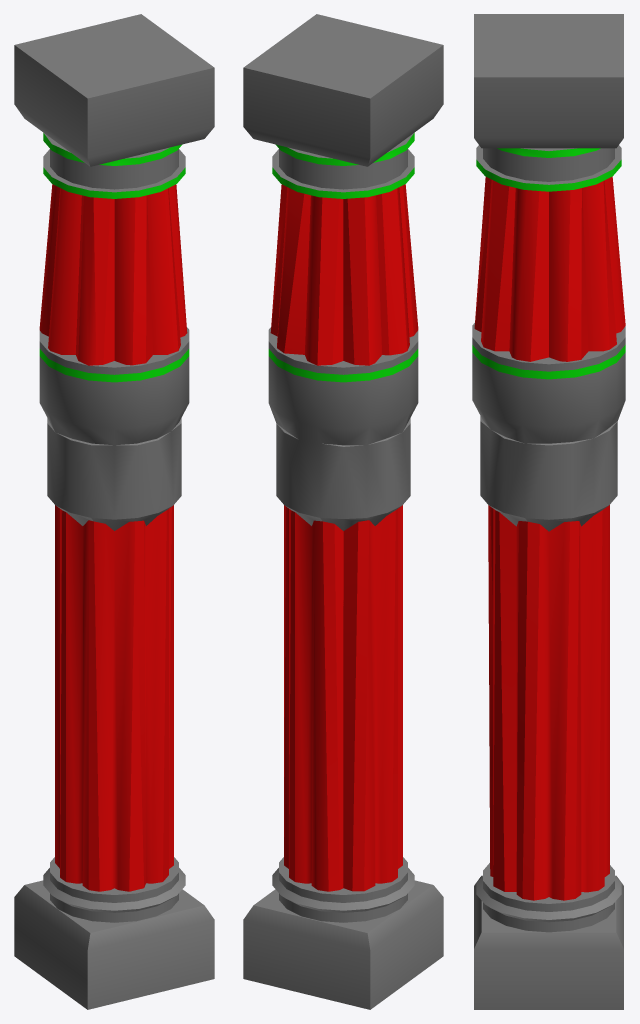
The model's file is PillarCylinderTall02.fbx.
3 renders of one model, left to right at view 1: azimuth 30°, elevation 25°; view 2: azimuth 150°, elevation 25°; view 3: azimuth 270°, elevation 25°, orthographic. The views are drawn at different scales.
Visible parts, largest first — view 1: PillarCylinderTall02; view 2: PillarCylinderTall02; view 3: PillarCylinderTall02.
Part boxes in pixels (x1,y1,x2,y2): PillarCylinderTall02: [14, 14, 214, 1009]; PillarCylinderTall02: [243, 14, 443, 1009]; PillarCylinderTall02: [472, 14, 625, 1009].
Size of the model in its own units: 174 by 1150 by 172.
